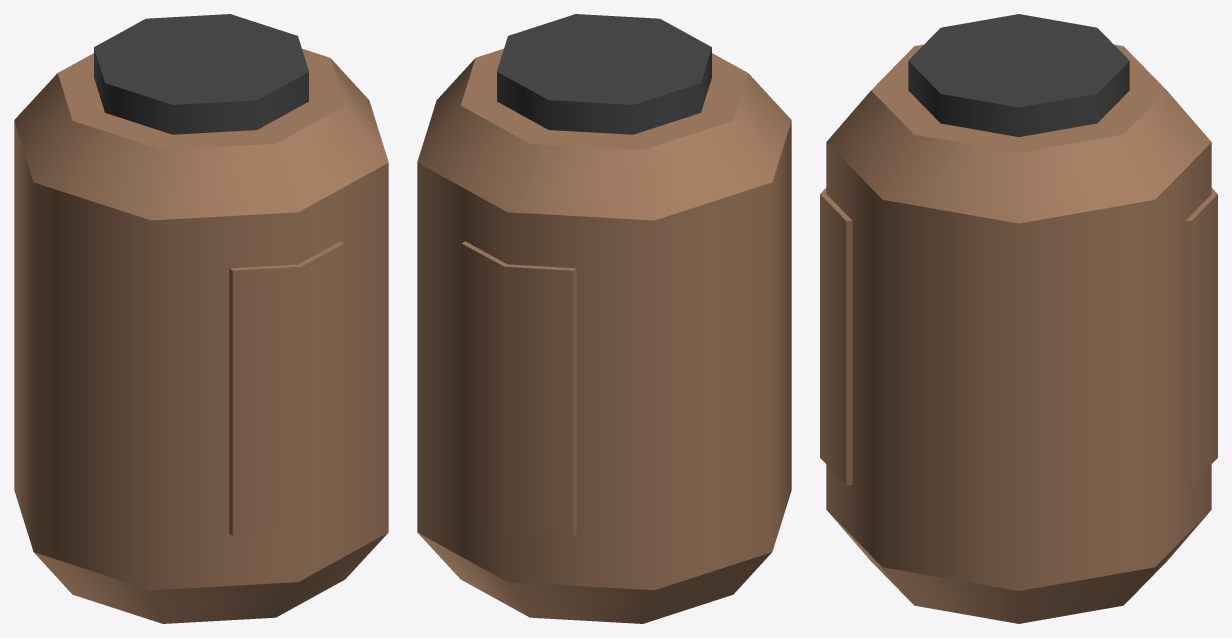
The model's file is barrel.glb.
3 renders of one model, left to right at view 1: azimuth 30°, elevation 25°; view 2: azimuth 150°, elevation 25°; view 3: azimuth 270°, elevation 25°, orthographic.
Visible parts, largest first — view 1: Barrel; view 2: Barrel; view 3: Barrel.
Boxes of the visible parts, box(x1,y1,x2,y2) form: Barrel: box(14, 14, 388, 623); Barrel: box(417, 14, 791, 623); Barrel: box(820, 14, 1217, 623).
Size of the model in its own units: 3.13 by 4.48 by 3.23.
